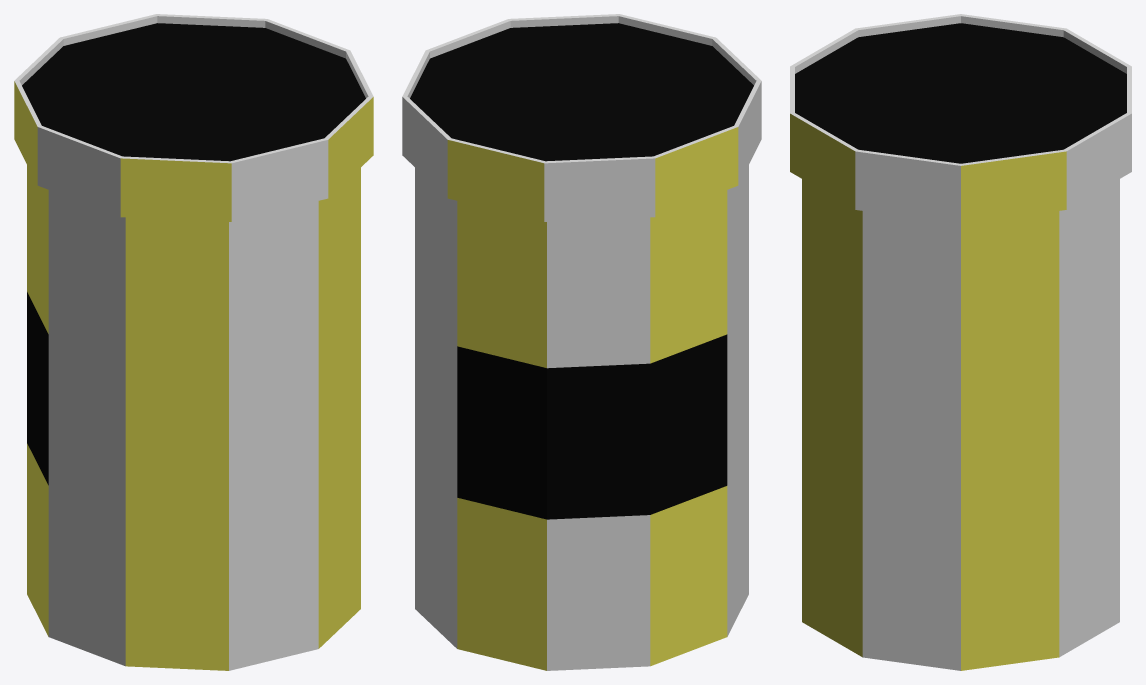
The model's file is IceBucketClosed.fbx.
3 renders of one model, left to right at view 1: azimuth 30°, elevation 25°; view 2: azimuth 150°, elevation 25°; view 3: azimuth 270°, elevation 25°, orthographic.
Parts seen in each view (by area): view 1: IceBucketClosed; view 2: IceBucketClosed; view 3: IceBucketClosed.
Part boxes in pixels (x1,y1,x2,y2): IceBucketClosed: [14, 14, 373, 670]; IceBucketClosed: [402, 14, 761, 670]; IceBucketClosed: [790, 14, 1131, 670].
Size of the model in its own units: 30.01 by 47.01 by 28.54.
